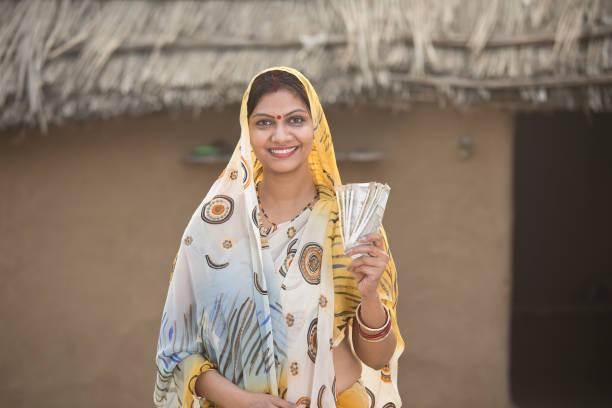Human: (172, 70, 414, 408)
